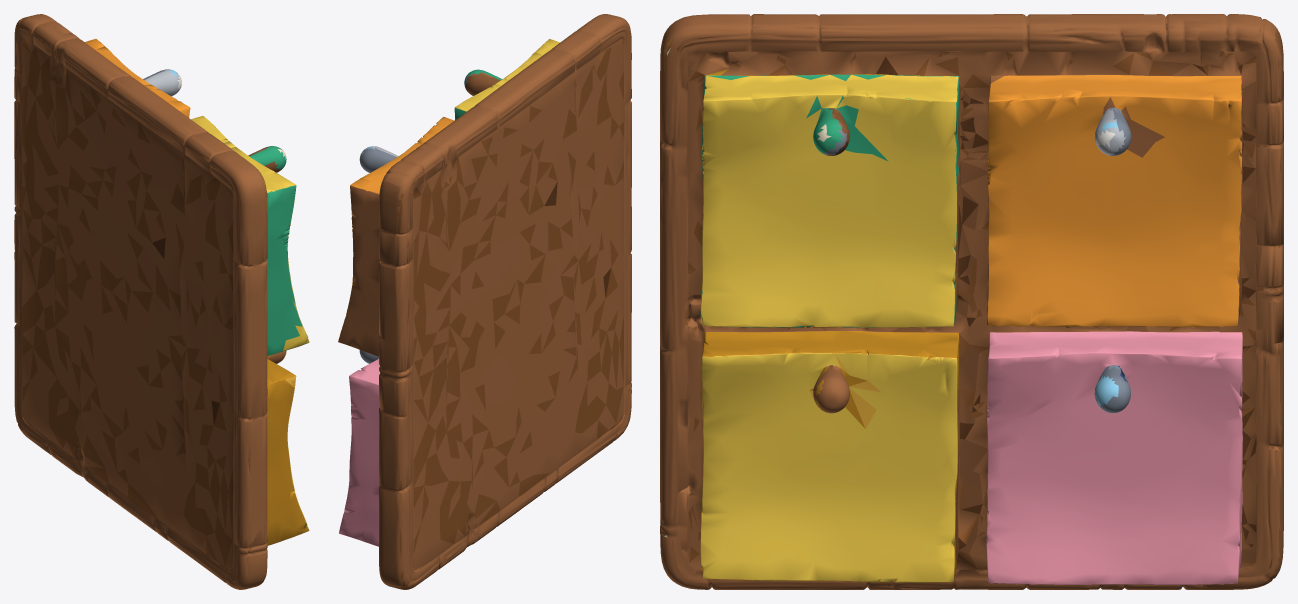
The model's file is SM_wardrobe_color.fbx.
3 views of the same model, side by side, from view 1: azimuth 30°, elevation 25°; view 2: azimuth 150°, elevation 25°; view 3: azimuth 270°, elevation 25° (orthographic). The views are drawn at different scales.
Visible parts, largest first — view 1: SM_wardrobe_color; view 2: SM_wardrobe_color; view 3: SM_wardrobe_color.
Boxes of the visible parts, box(x1,y1,x2,y2) form: SM_wardrobe_color: box(14, 14, 309, 589); SM_wardrobe_color: box(338, 14, 631, 589); SM_wardrobe_color: box(660, 14, 1283, 589).
Bounding box in the file's own units: 44.55 × 170 × 170.
1 material, 1 textured.
